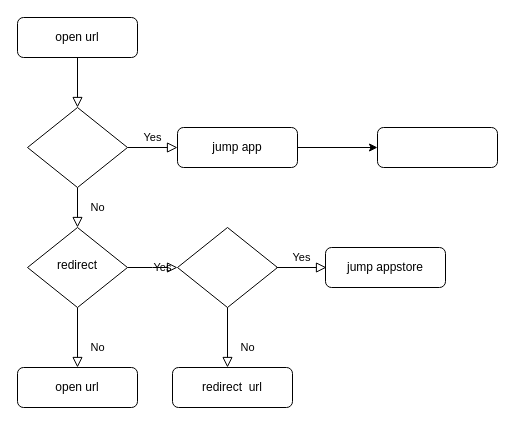
The diagram is 515 pixels wide and 425 high, and some of its shapes have lost their labels. Each missing label, with the box of its shape:
app router: (376, 126, 498, 168)
force to appstore: (176, 226, 278, 308)
installed app?: (26, 106, 128, 188)
